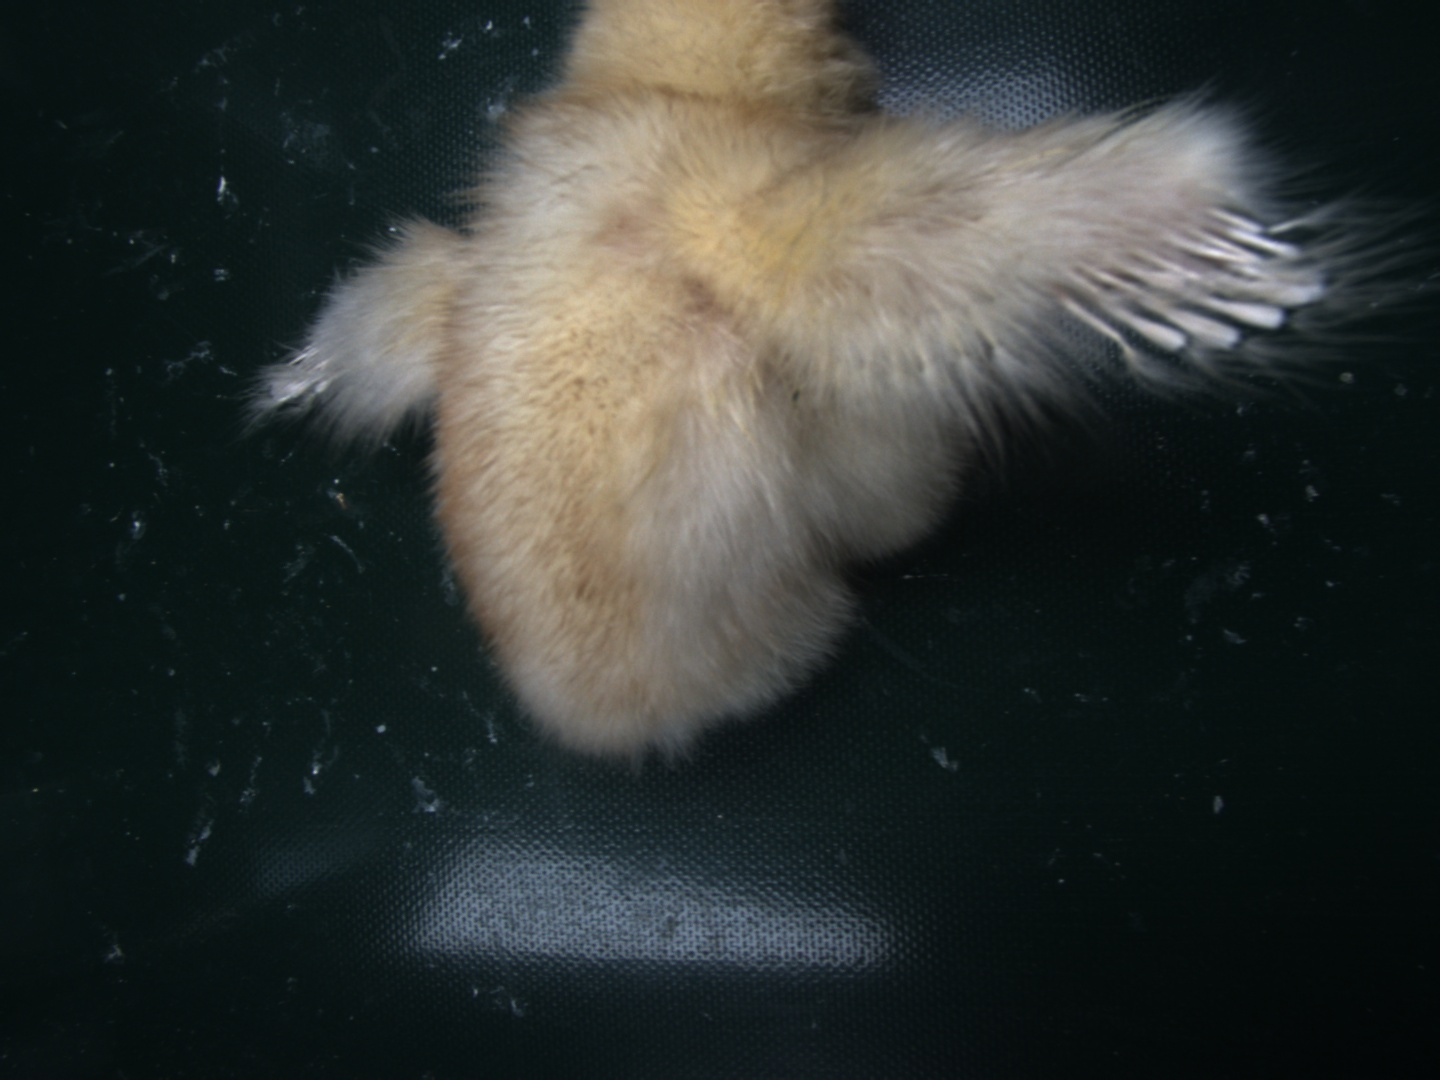female: (1060, 204, 1323, 353)
